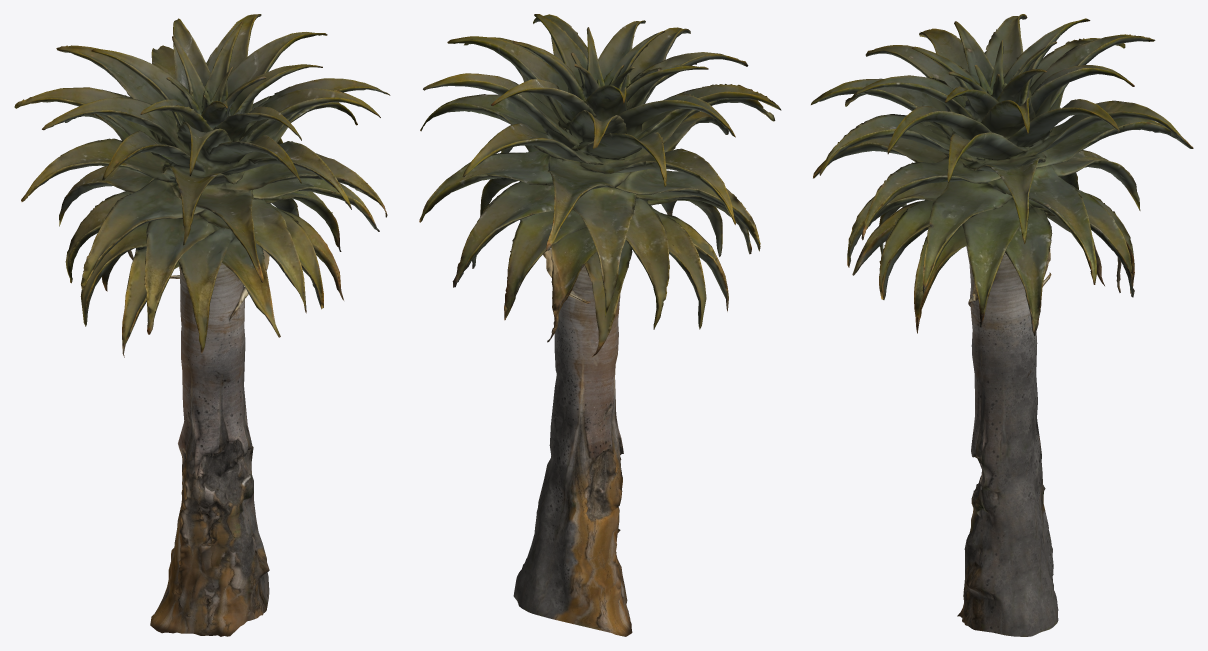
Rendered from desert_hero_quiver_b.glb.
3 renders of one model, left to right at view 1: azimuth 30°, elevation 25°; view 2: azimuth 150°, elevation 25°; view 3: azimuth 270°, elevation 25°, orthographic.
Parts seen in each view (by area): view 1: quiver_tree_02; view 2: quiver_tree_02; view 3: quiver_tree_02.
Part boxes in pixels (<box>): quiver_tree_02: <box>14,14,390,636</box>; quiver_tree_02: <box>419,14,781,636</box>; quiver_tree_02: <box>811,14,1193,636</box>.
Bounding box in the file's own units: 0.8716 × 1.47 × 0.8805.
1 material, 1 textured.
